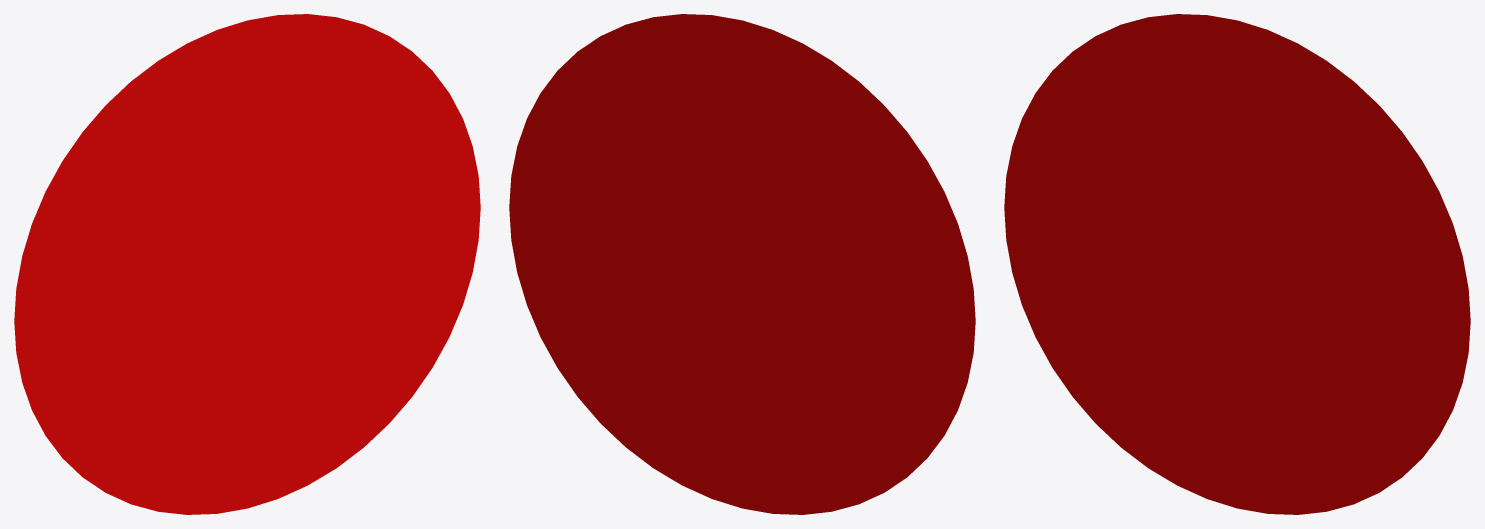
File: MeshPsRobothorSideTableStrind_1.obj
The picture shows the model from 3 angles, left to right: view 1: azimuth 30°, elevation 25°; view 2: azimuth 150°, elevation 25°; view 3: azimuth 330°, elevation 25°; orthographic projection.
Visible parts, largest first — view 1: PsRobothorSideTableStrind; view 2: PsRobothorSideTableStrind; view 3: PsRobothorSideTableStrind.
Boxes of the visible parts, box(x1,y1,x2,y2) form: PsRobothorSideTableStrind: box(14, 14, 480, 514); PsRobothorSideTableStrind: box(509, 14, 975, 514); PsRobothorSideTableStrind: box(1004, 14, 1470, 514).
Size of the model in its own units: 0.4837 by 0.4837 by 0.
